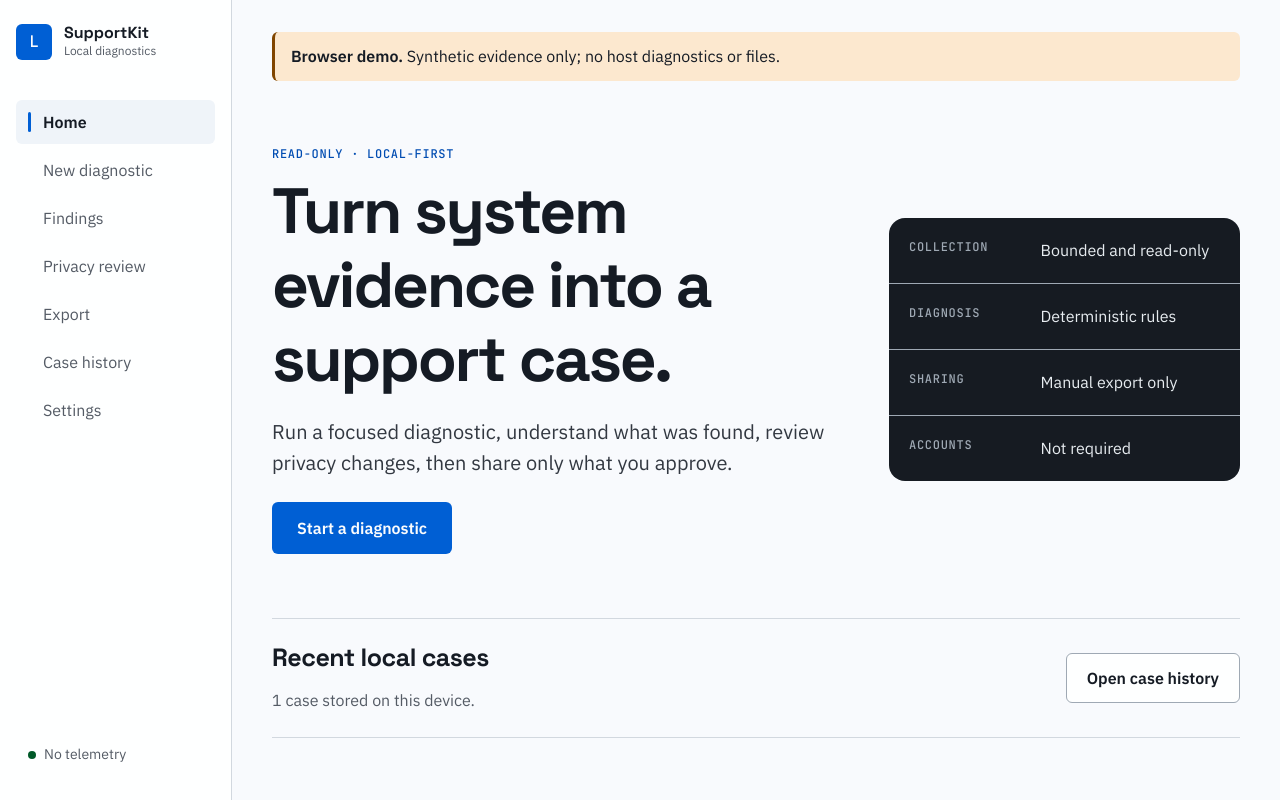
Test: SupportKit desktop workflow › redirects protected navigation when no case is active
What coordinates should you click on to do the following:
click the button "Export"
I would click on:
 (116, 314)
Its box is [16, 292, 215, 336].
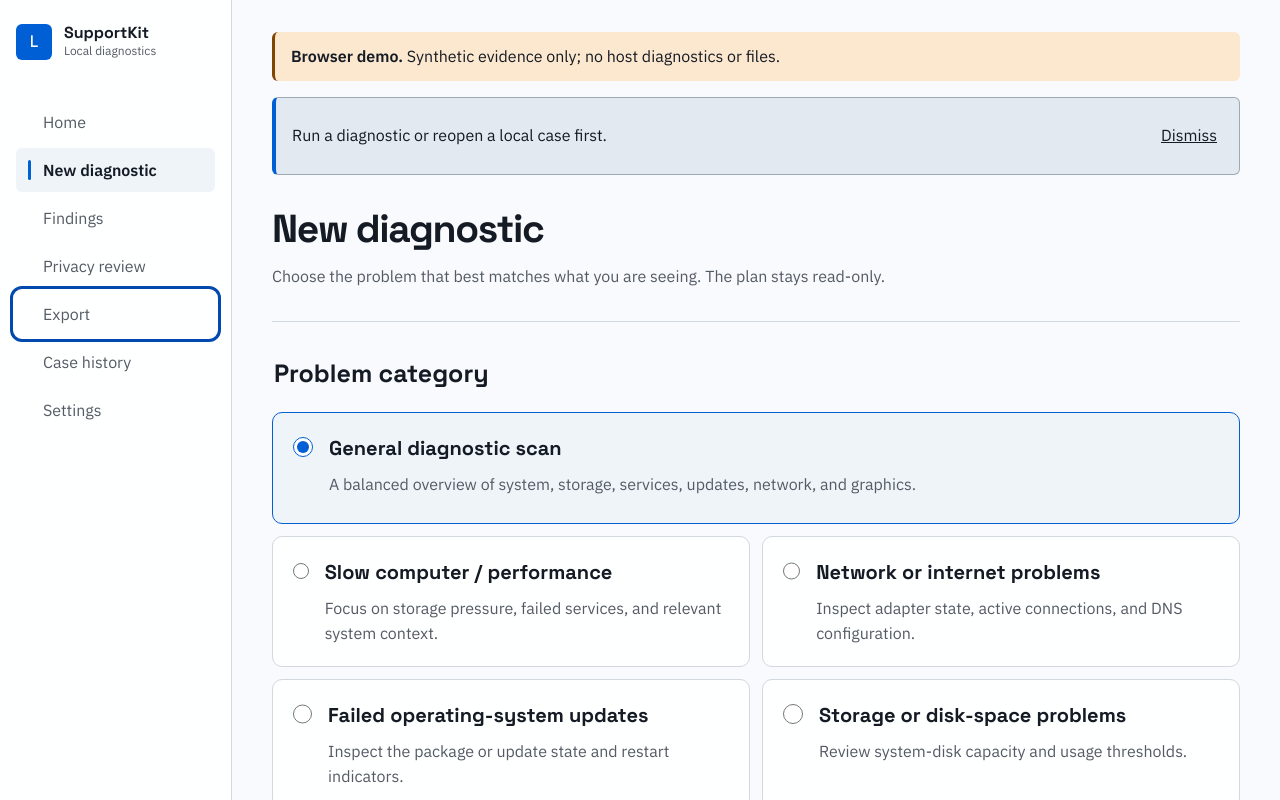
Expected: the heading "New diagnostic" is shown, [272, 204, 544, 253]
Expected: the text "Run a diagnostic or reopen a local case first." is shown, [292, 125, 607, 145]
